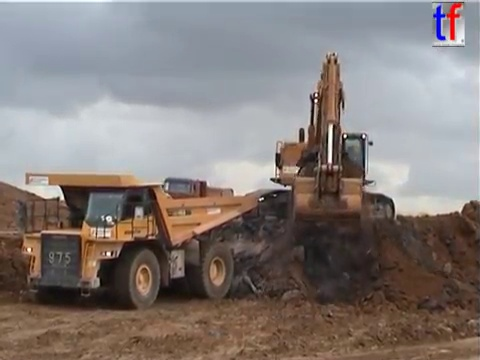excavator: (240, 49, 397, 233)
truck: (14, 170, 259, 311), (158, 175, 235, 212)
